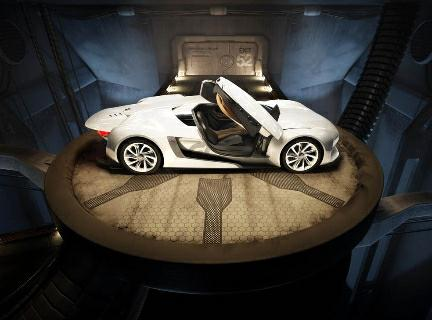雪铁龙-GT: (73, 71, 347, 180)
